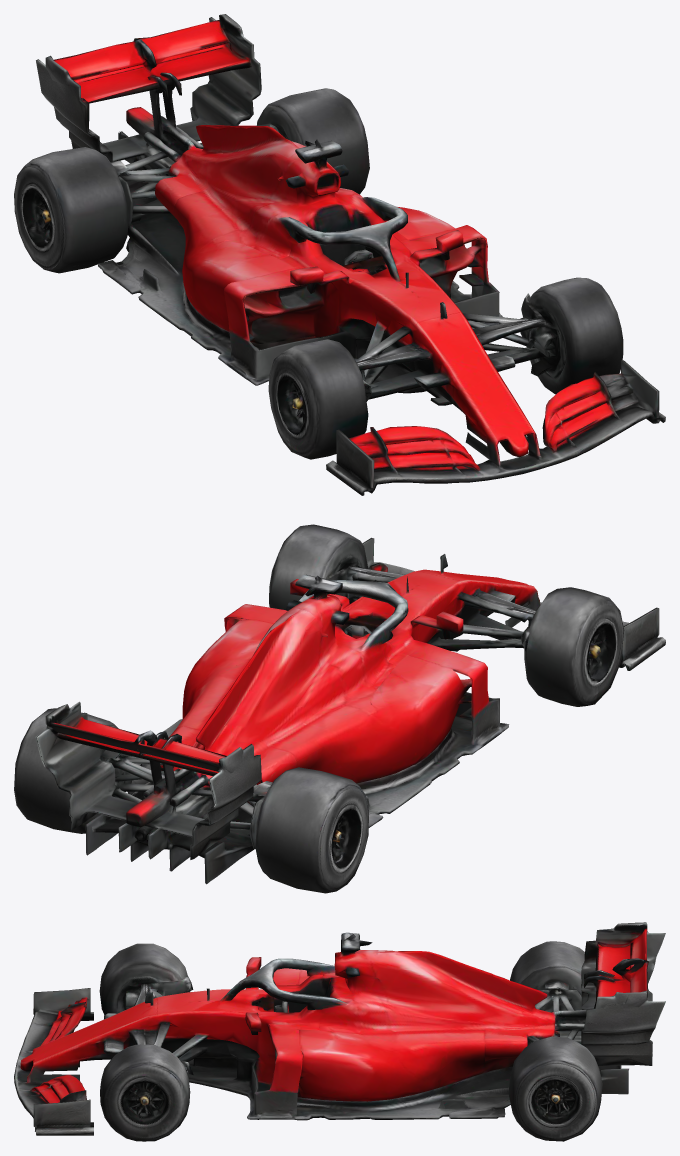
File: formula1-red-driving.glb
3 views of the same model, one above another, from view 1: azimuth 30°, elevation 25°; view 2: azimuth 150°, elevation 25°; view 3: azimuth 270°, elevation 25° (orthographic). The views are drawn at different scales.
Visible parts, largest first — view 1: tripo_node_f9c808f8-98db-4e54-b74b-feadd8e5cea5; view 2: tripo_node_f9c808f8-98db-4e54-b74b-feadd8e5cea5; view 3: tripo_node_f9c808f8-98db-4e54-b74b-feadd8e5cea5.
Part boxes in pixels (x1,y1,x2,y2): tripo_node_f9c808f8-98db-4e54-b74b-feadd8e5cea5: (14, 14, 665, 495); tripo_node_f9c808f8-98db-4e54-b74b-feadd8e5cea5: (14, 524, 665, 893); tripo_node_f9c808f8-98db-4e54-b74b-feadd8e5cea5: (14, 922, 665, 1141).
Bounding box in the file's own units: 0.4334 × 0.252 × 0.9805.
Materials: 1 (1 with a texture image).
